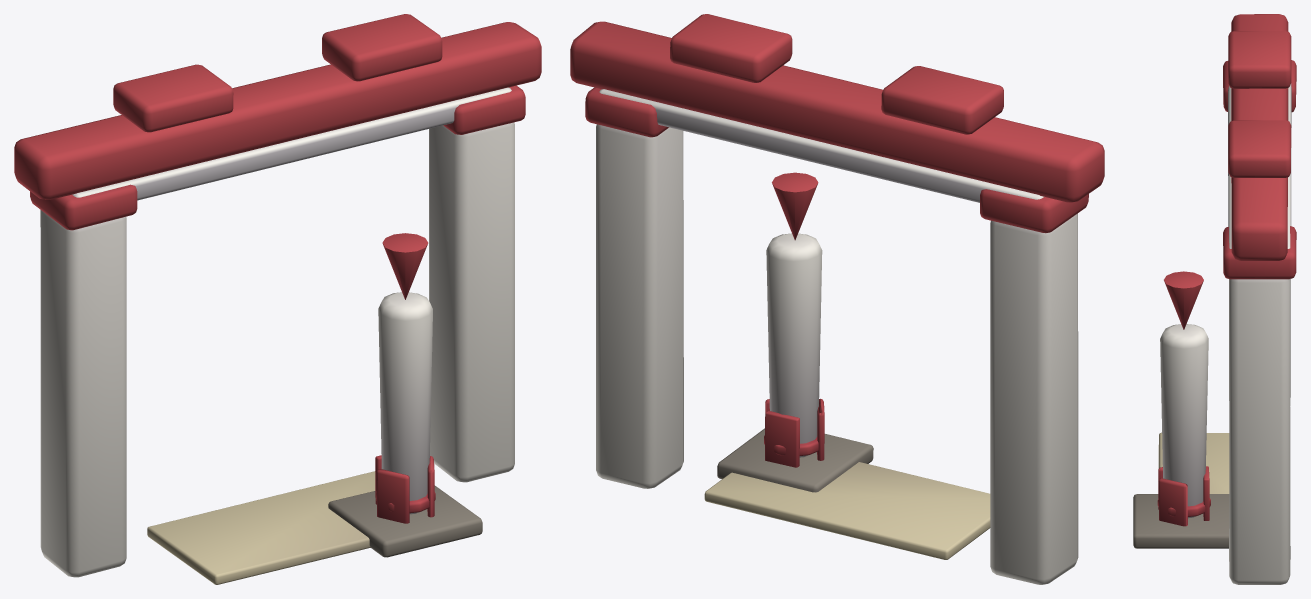
3 renders of one model, left to right at view 1: azimuth 30°, elevation 25°; view 2: azimuth 150°, elevation 25°; view 3: azimuth 270°, elevation 25°, orthographic. The views are drawn at different scales.
Parts seen in each view (by area): view 1: gate_fec8fc51; view 2: gate_fec8fc51; view 3: gate_fec8fc51.
Part boxes in pixels (x1,y1,x2,y2): gate_fec8fc51: (14, 14, 541, 584); gate_fec8fc51: (570, 14, 1104, 584); gate_fec8fc51: (1133, 14, 1296, 584).
Bounding box in the file's own units: 5.05 × 4.41 × 1.62.
